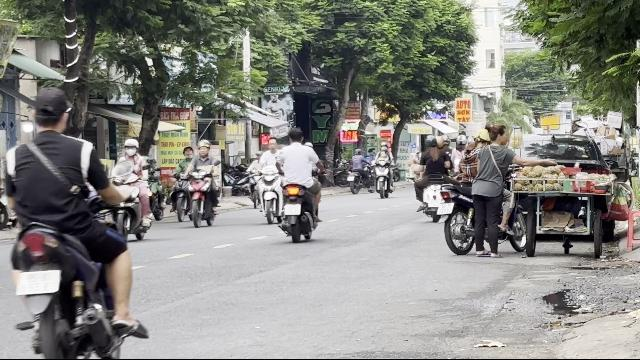helmet: (122, 138, 138, 156), (196, 138, 210, 156)
licenseplate: (17, 269, 59, 293), (438, 203, 454, 215), (284, 205, 300, 216)
motorcyclist: (0, 86, 144, 356), (276, 126, 324, 241), (108, 138, 154, 243), (182, 139, 222, 227)
nohelmet: (29, 88, 73, 134), (286, 127, 304, 144)
